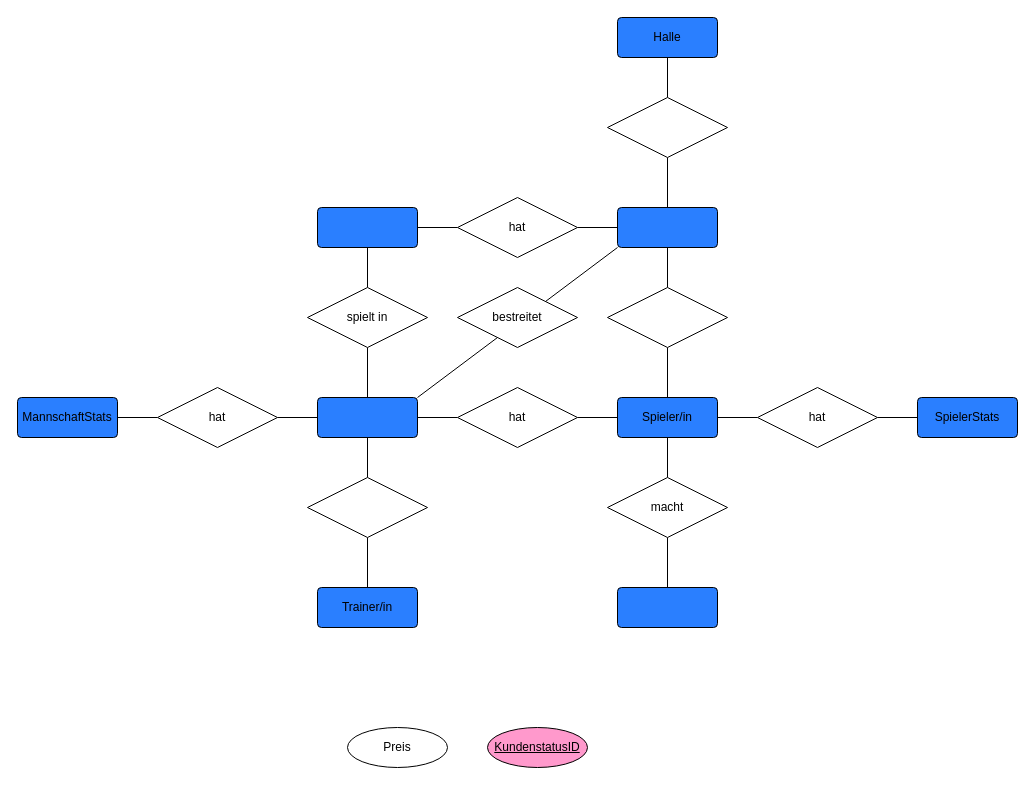
The diagram is 1035 pixels wide and 785 high, and some of its shapes have lost their labels. Here are the shapes that lost their labels. From the top down, the centre of each, then its label:
(x=667, y=127): findet statt
(x=367, y=227): Liga
(x=667, y=227): Spiel
(x=667, y=317): nimmt teil an
(x=367, y=417): Mannschaft
(x=367, y=507): wird trainiert von
(x=667, y=607): Strafe
